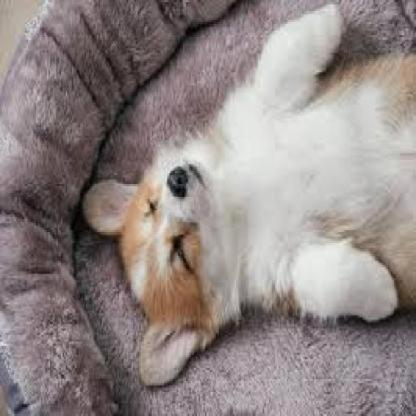dog: (113, 2, 414, 387)
